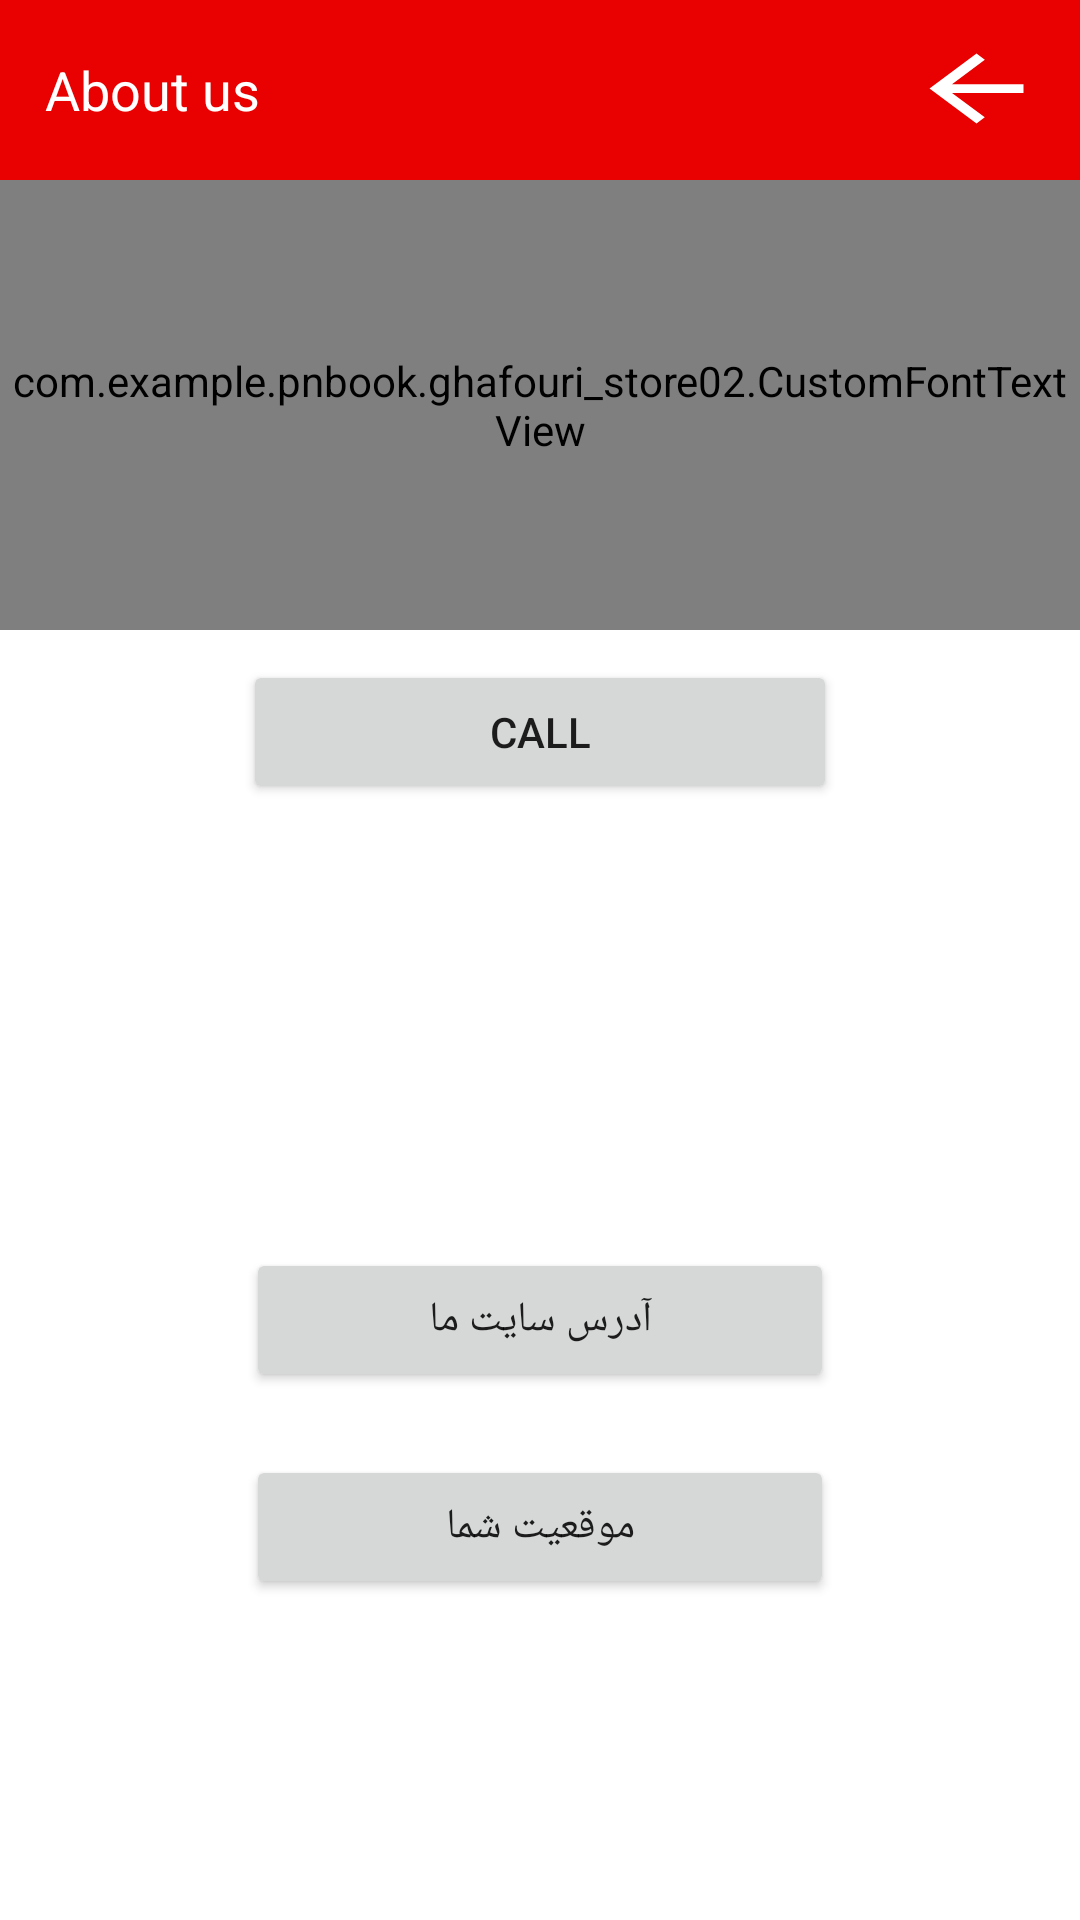

Named icons in this screenshot (1080 x 1920) and their bounding boxes, (x1, y1, x2, y2):
arrow back: (929, 53, 1024, 124)
